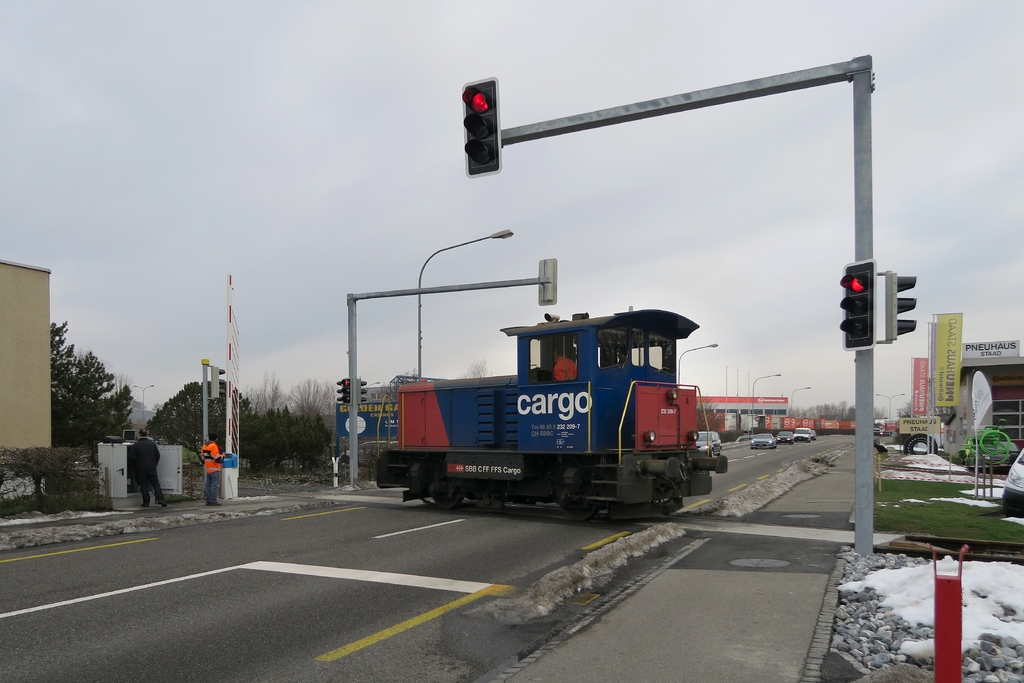red_light: (464, 79, 499, 173), (843, 264, 874, 348)
